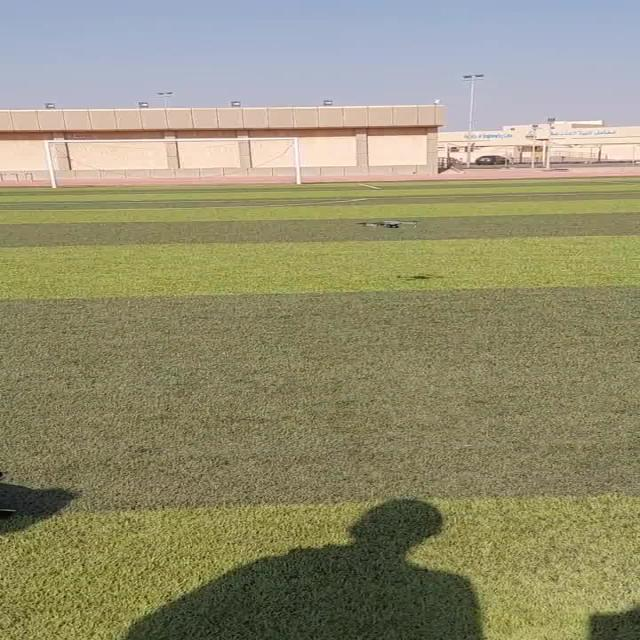drone: (346, 211, 413, 231)
